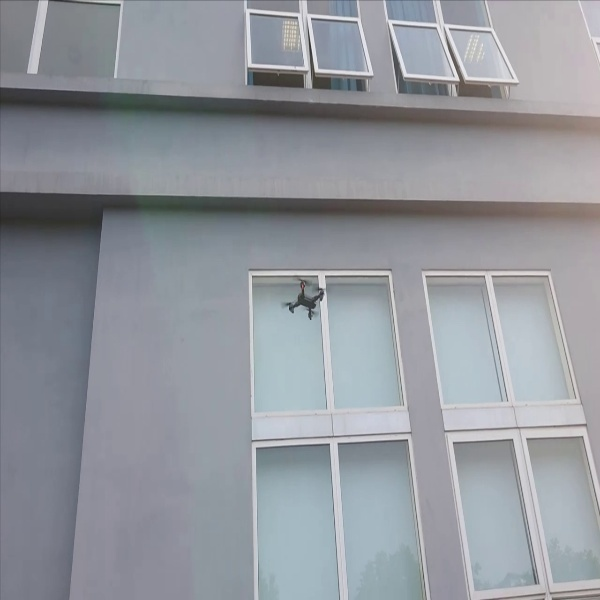drone: (276, 272, 330, 324)
